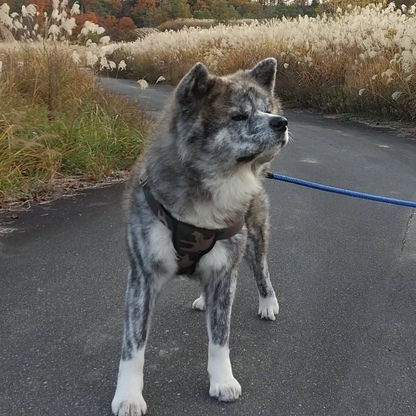akita: (107, 52, 288, 416)
